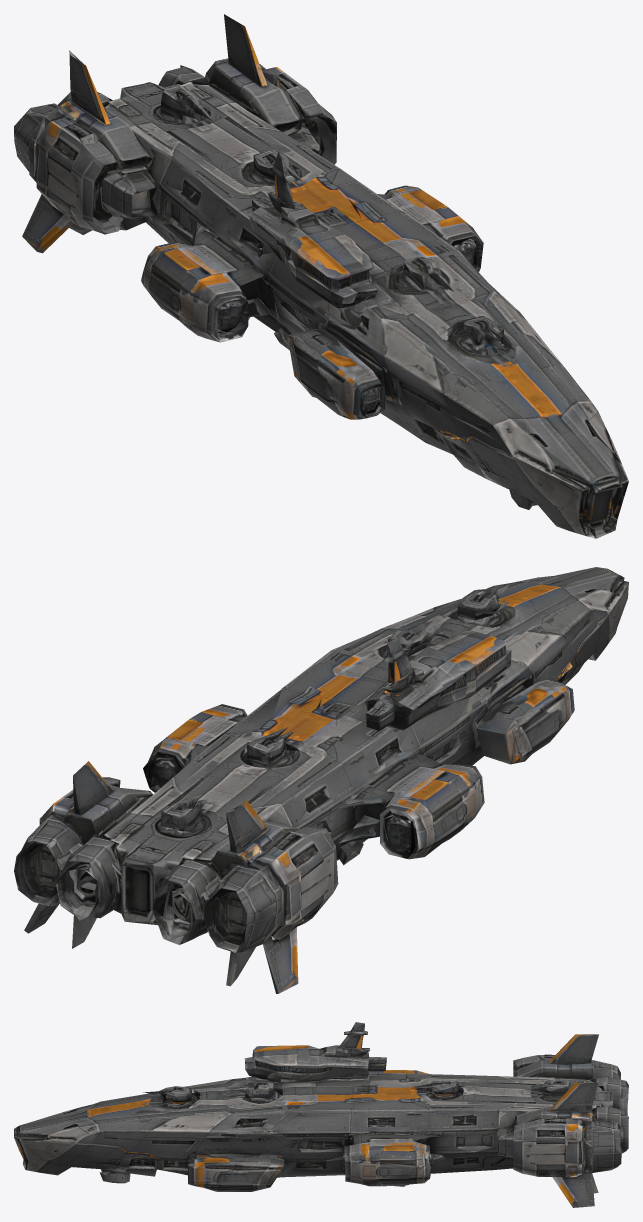
File: frigate-high.glb
3 views of the same model, one above another, from view 1: azimuth 30°, elevation 25°; view 2: azimuth 150°, elevation 25°; view 3: azimuth 270°, elevation 25° (orthographic). The views are drawn at different scales.
Visible parts, largest first — view 1: Low; view 2: Low; view 3: Low.
Boxes of the visible parts, box(x1,y1,x2,y2) form: Low: box(14, 14, 628, 538); Low: box(14, 567, 628, 993); Low: box(14, 1022, 628, 1207).
Size of the model in its own units: 0.649 by 0.4884 by 1.9.
Materials: 1 (1 with a texture image).
